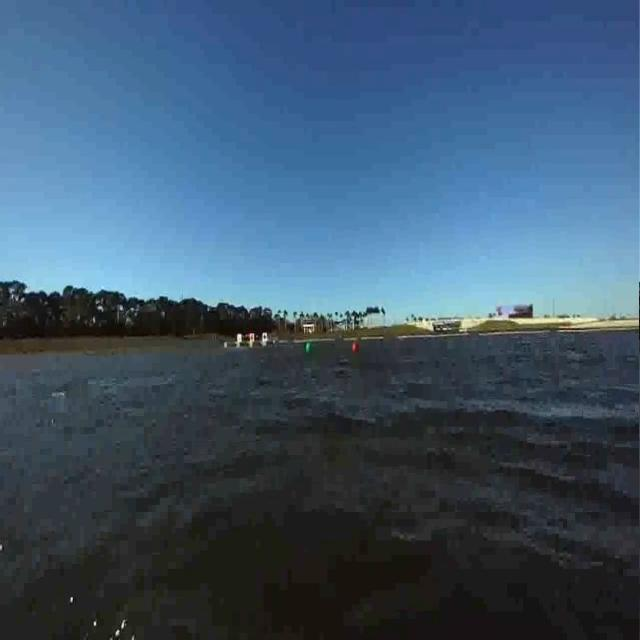green-buoy: (299, 334, 318, 354)
red-buoy: (351, 327, 362, 357)
